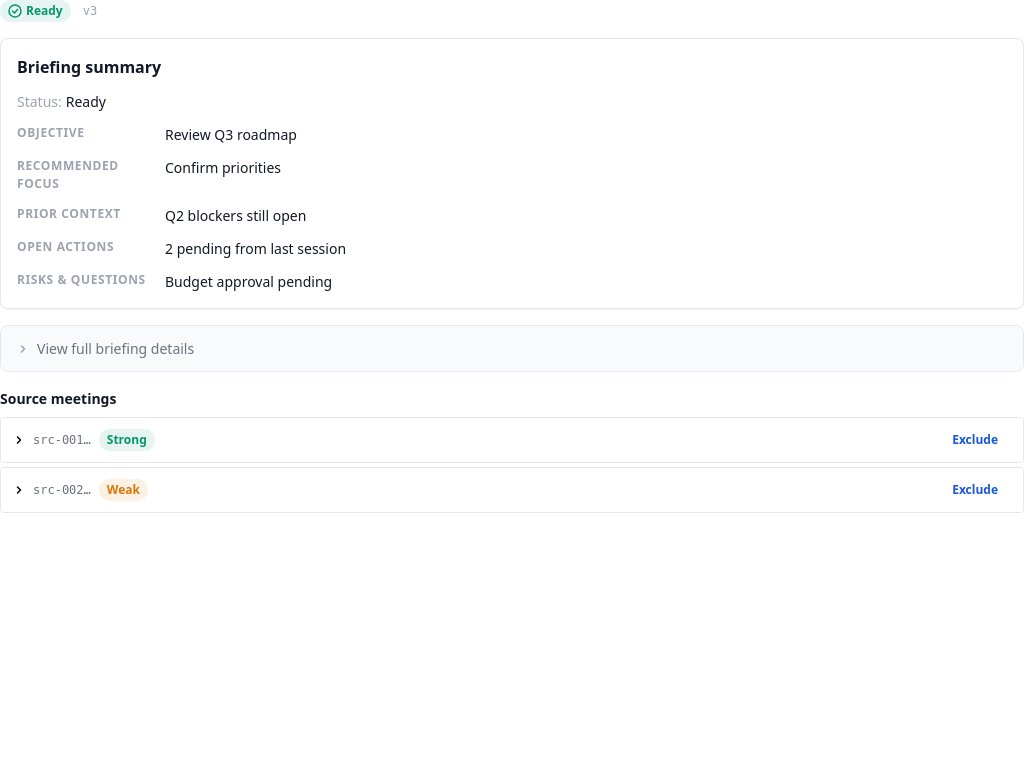
it: PreCallBriefing › detailed sections › shows detail sections when expanded
Click the heading "View full briefing details".
click(116, 348)  # box left=1, top=326, right=1023, bottom=371
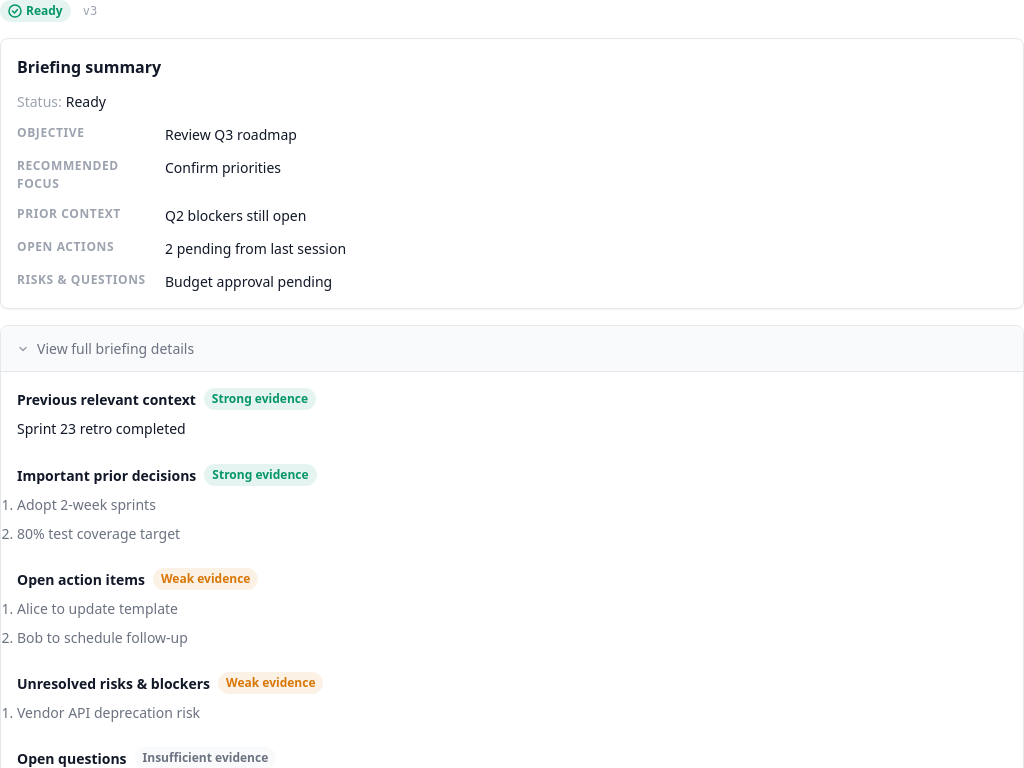
Result: the heading "Previous relevant context" is shown at left=17, top=390, right=196, bottom=408
Result: the heading "Important prior decisions" is shown at left=17, top=466, right=196, bottom=485
Result: the heading "Open action items Weak evidence" is shown at left=17, top=568, right=258, bottom=590
